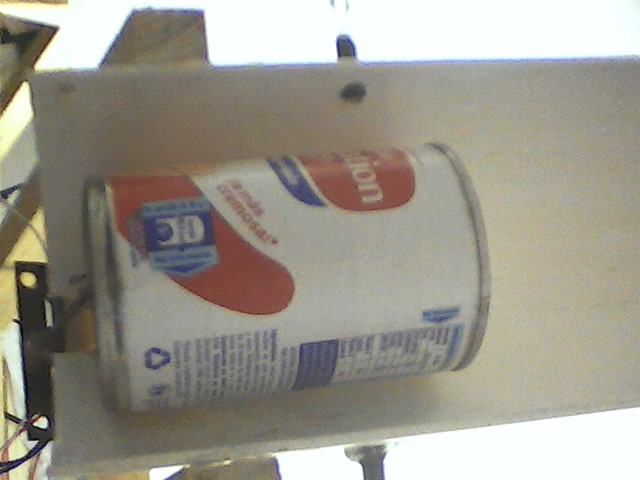lata: (78, 139, 501, 420)
